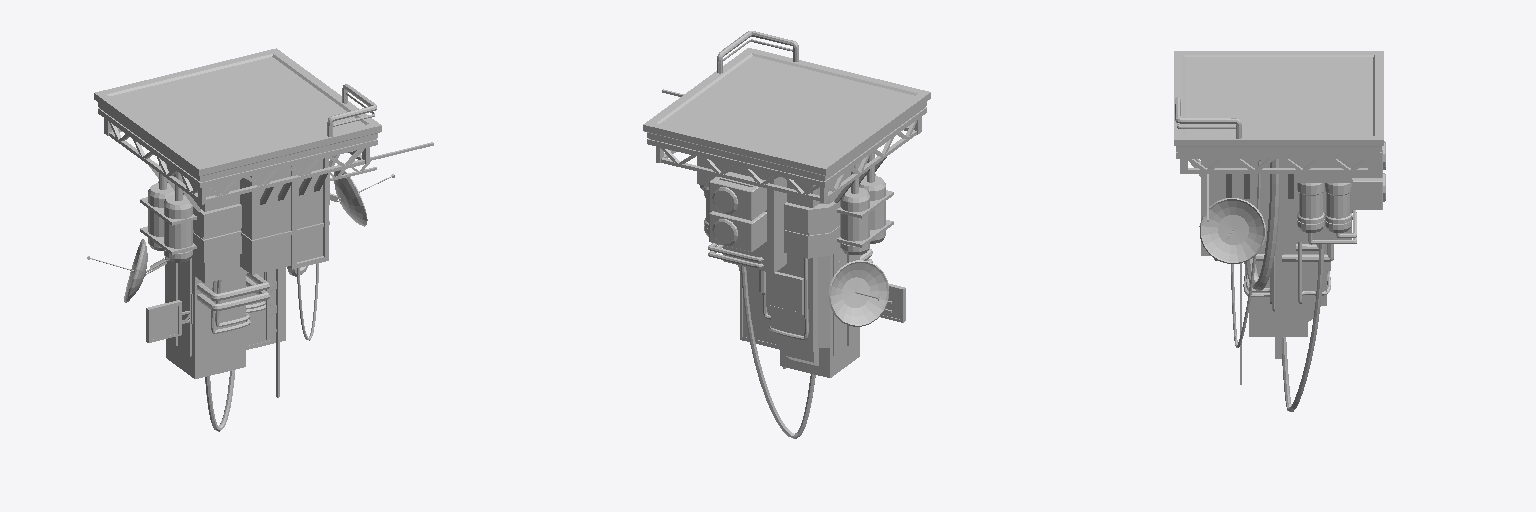
The model's file is Platform_2x2_Cube_002.obj.
3 renders of one model, left to right at view 1: azimuth 30°, elevation 25°; view 2: azimuth 150°, elevation 25°; view 3: azimuth 270°, elevation 25°, orthographic.
Visible parts, largest first — view 1: Platform_2x2_Cube.002; view 2: Platform_2x2_Cube.002; view 3: Platform_2x2_Cube.002.
Part boxes in pixels (left/top/right/bottom): Platform_2x2_Cube.002: left=87, top=48, right=433, bottom=431; Platform_2x2_Cube.002: left=643, top=31, right=930, bottom=438; Platform_2x2_Cube.002: left=1174, top=51, right=1385, bottom=411.
Bounding box in the file's own units: 3.31 × 3.83 × 2.16.